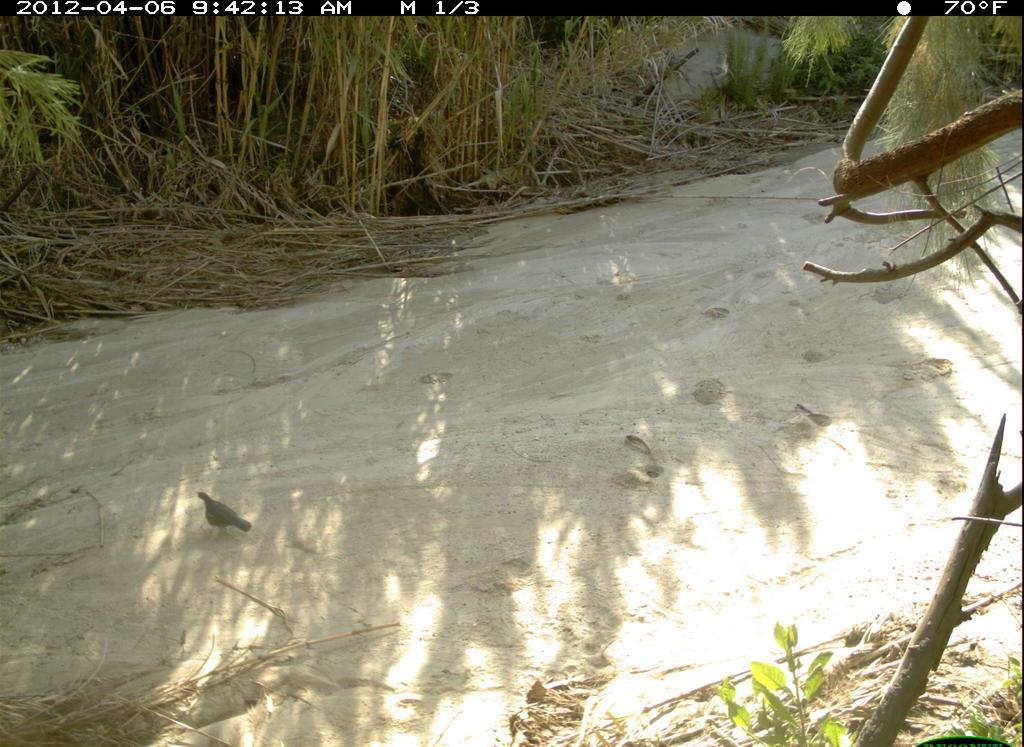bird: (193, 489, 260, 547)
